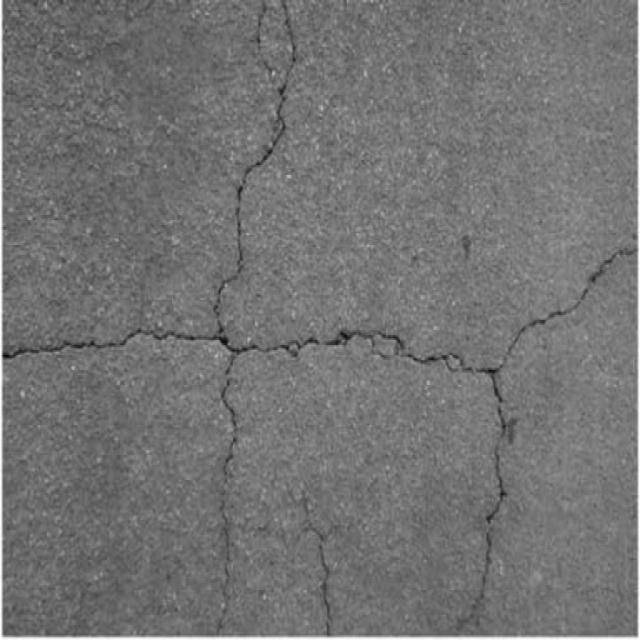crack: (4, 234, 636, 376), (231, 1, 303, 234), (454, 375, 518, 635), (284, 478, 343, 638), (211, 377, 245, 634)
